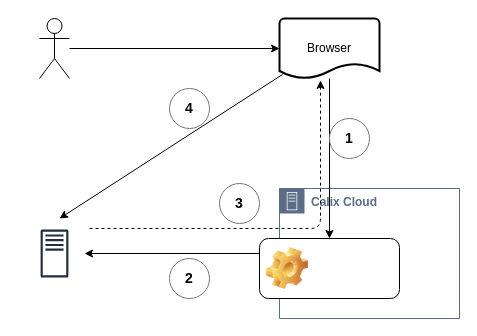
The diagram is 477 pixels wide and 336 high, and some of its shapes have lost their labels. The shapes that lost their labels are listed below. From the top down, each one's centre as x and y in pixels, then its label:
At [54,48]: "Report User".
At [54,253]: "Report Server".
At [329,268]: "Cloud Web".
